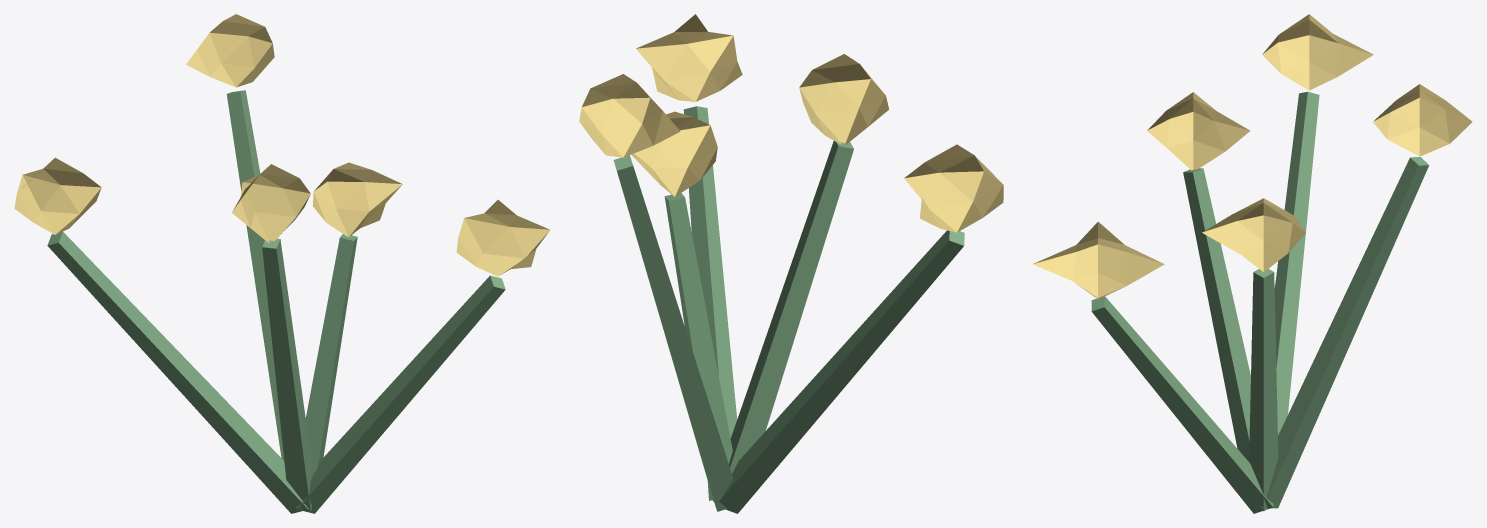
Rendered from flower_v11.glb.
3 views of the same model, side by side, from view 1: azimuth 30°, elevation 25°; view 2: azimuth 150°, elevation 25°; view 3: azimuth 270°, elevation 25° (orthographic). The views are drawn at different scales.
Parts seen in each view (by area): view 1: lod0; view 2: lod0; view 3: lod0.
Boxes of the visible parts, box(x1,y1,x2,y2) form: lod0: box(14, 14, 549, 513); lod0: box(579, 14, 1003, 513); lod0: box(1032, 14, 1472, 513).
Size of what is drawn, in the model's own units: 0.564 by 0.5492 by 0.5065.
